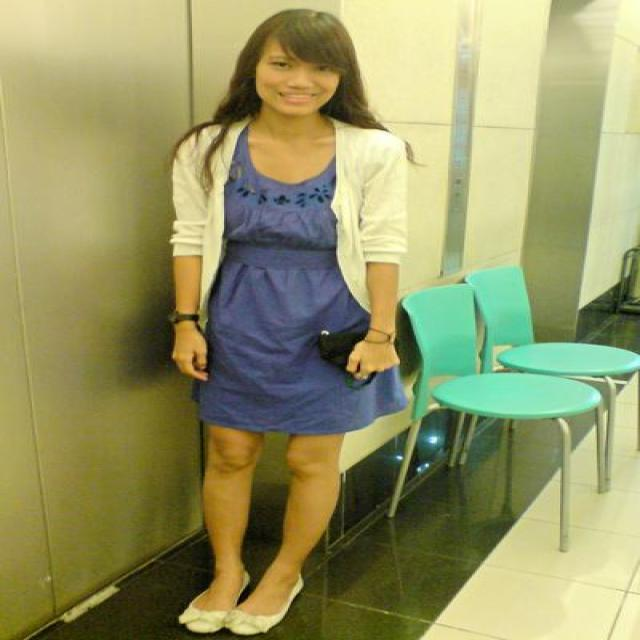bag: (306, 302, 420, 370)
dress: (173, 141, 421, 434)
jacket: (170, 123, 410, 293)
shoe: (179, 589, 283, 639)
